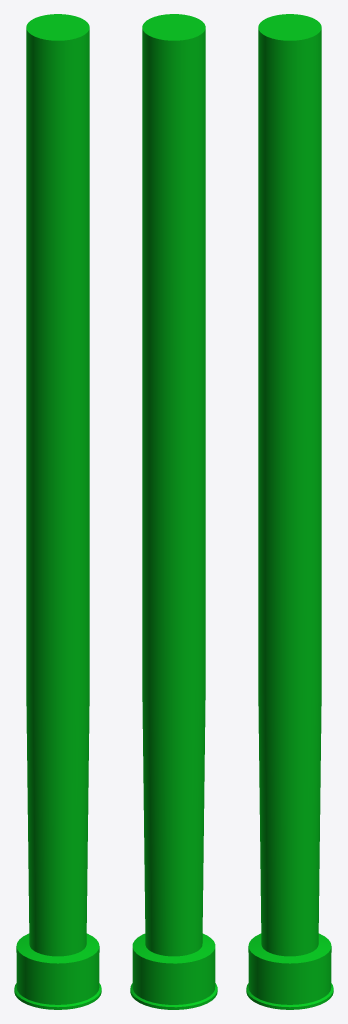
The model's file is pipe3.fbx.
3 renders of one model, left to right at view 1: azimuth 90°, elevation 25°; view 2: azimuth 150°, elevation 25°; view 3: azimuth 270°, elevation 25°, orthographic.
Parts seen in each view (by area): view 1: PIPE 1.001; view 2: PIPE 1.001; view 3: PIPE 1.001.
Part boxes in pixels (x1,y1,x2,y2): PIPE 1.001: (14, 14, 101, 1009); PIPE 1.001: (130, 14, 217, 1009); PIPE 1.001: (246, 14, 333, 1009).
Bounding box in the file's own units: 364 × 364 × 4430.
